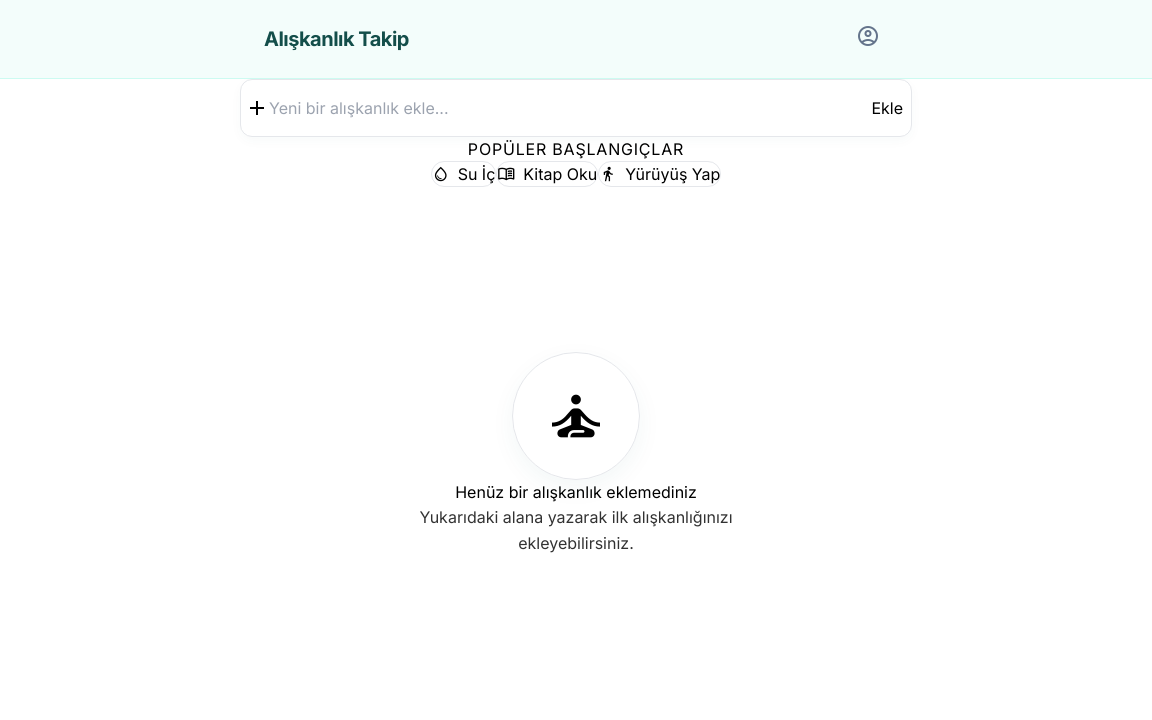
Test case: App integration › shows storage error screen when localStorage write fails
Type "Kitap Oku" into the field with placeholder "Yeni bir alışkanlık ekle..." at (570, 108), box [269,84,871,132]
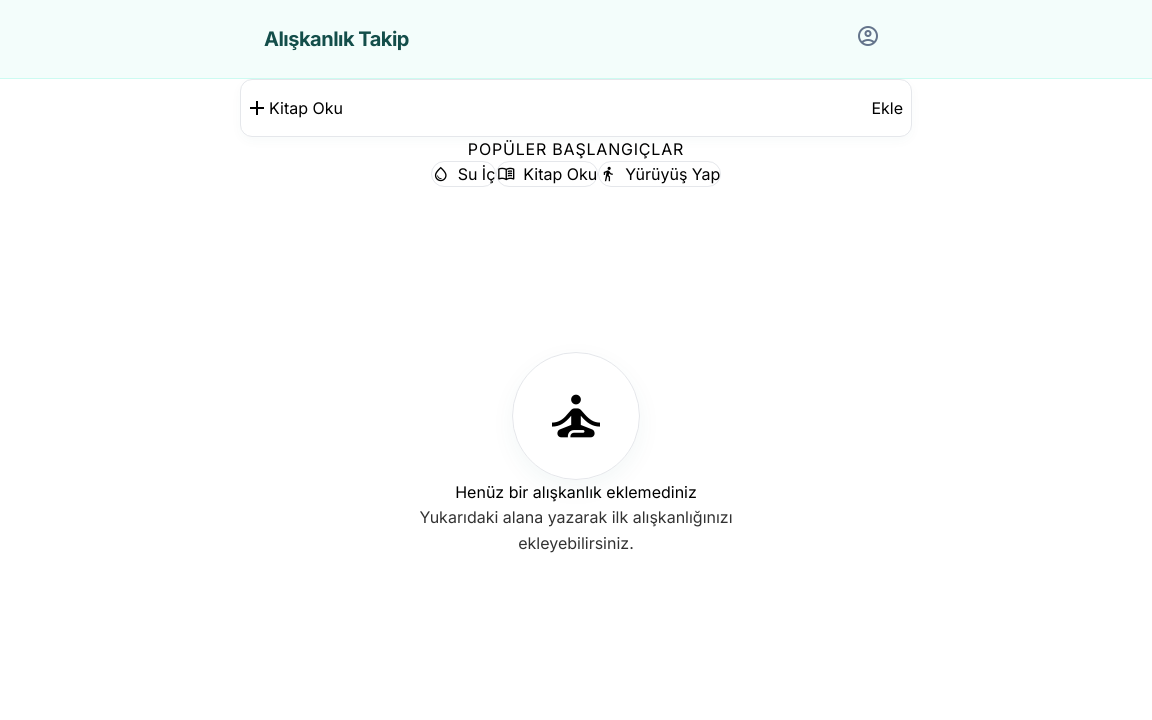
Press Enter in the field with placeholder "Yeni bir alışkanlık ekle...", box [269,84,871,132]
Wait 400 ms
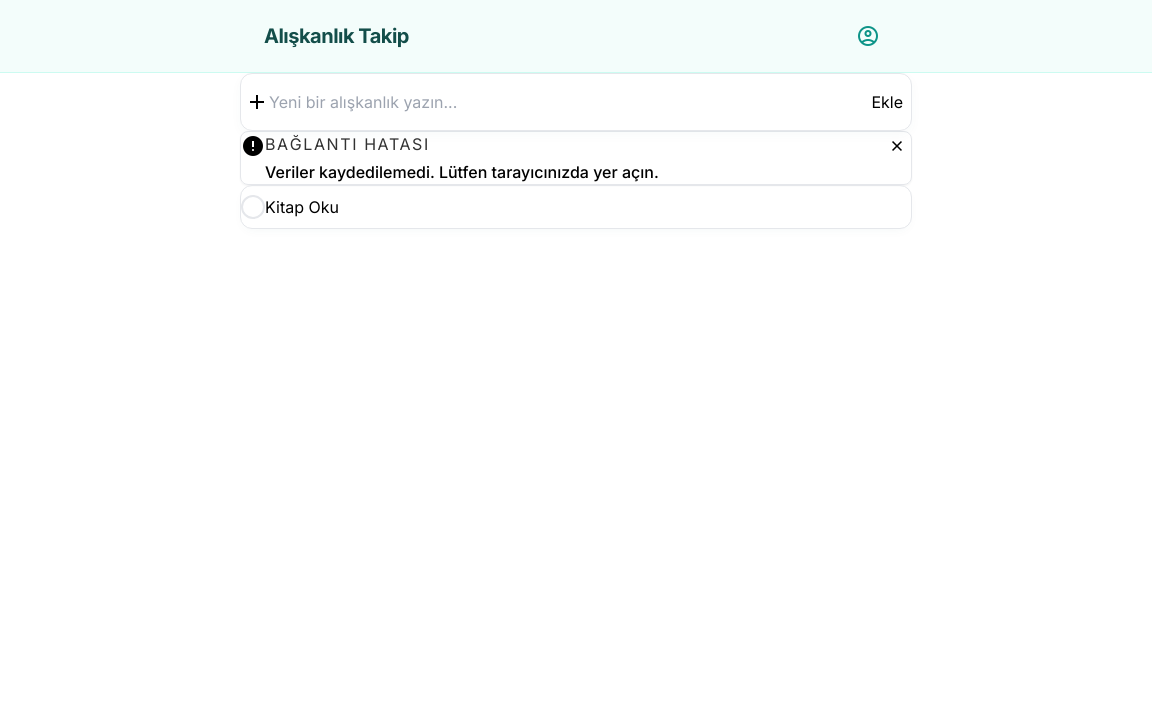
Expected: the heading "Bağlantı Hatası" is shown, [265,134,430,154]
Expected: the text "Veriler kaydedilemedi. Lütfen tarayıcınızda yer açın." is shown, [265,162,659,182]
Expected: the text "Kitap Oku" is shown, [265,197,339,217]
